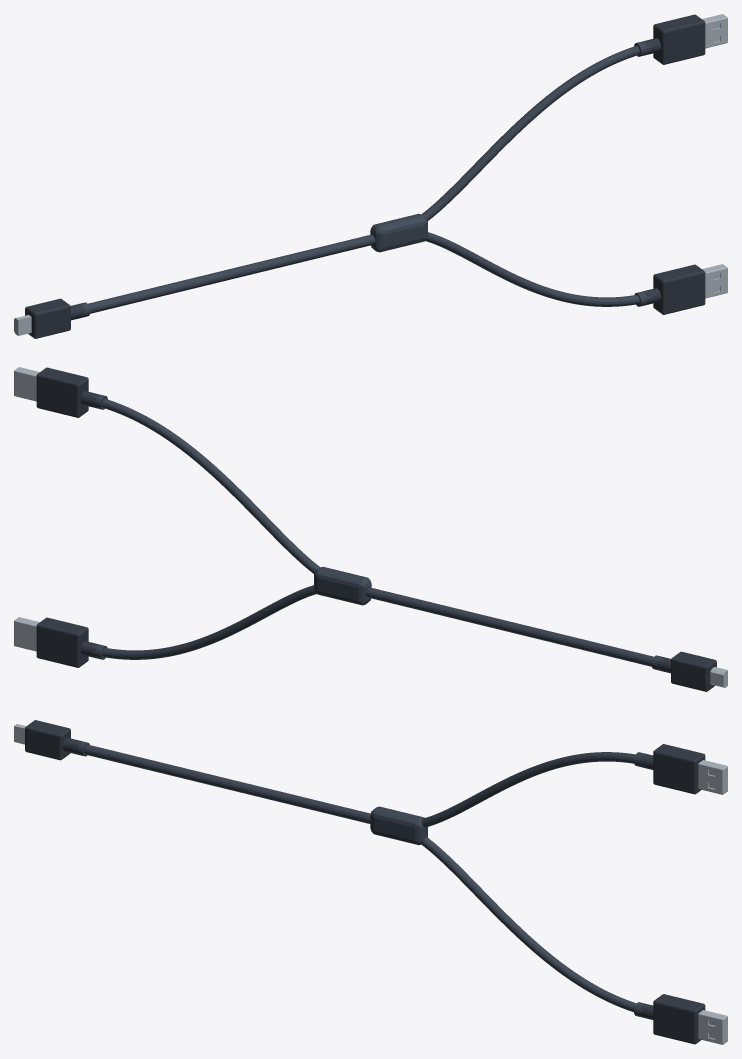
3 views of the same model, one above another, from view 1: azimuth 30°, elevation 25°; view 2: azimuth 150°, elevation 25°; view 3: azimuth 330°, elevation 25° (orthographic).
Parts seen in each view (by area): view 1: geometry_0; view 2: geometry_0; view 3: geometry_0.
Part boxes in pixels (box(x1,y1,x2,y2)): geometry_0: box(14, 14, 727, 338); geometry_0: box(14, 367, 727, 691); geometry_0: box(14, 720, 727, 1044).
Size of the model in its own units: 0.3445 by 0.132 by 0.009.
1 material, 1 textured.
